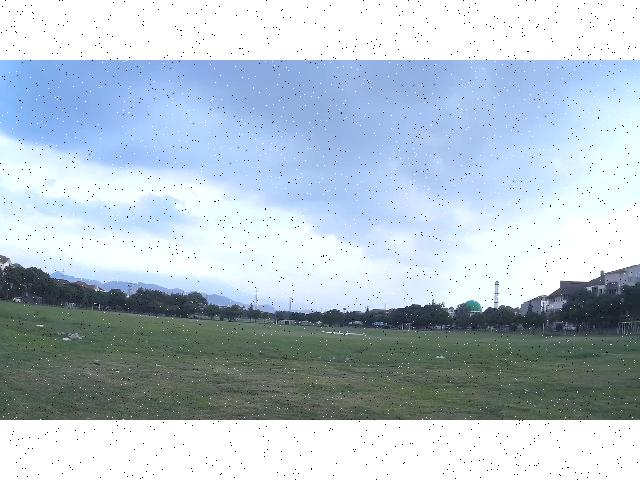Anti-Drone: (320, 329, 364, 334)
